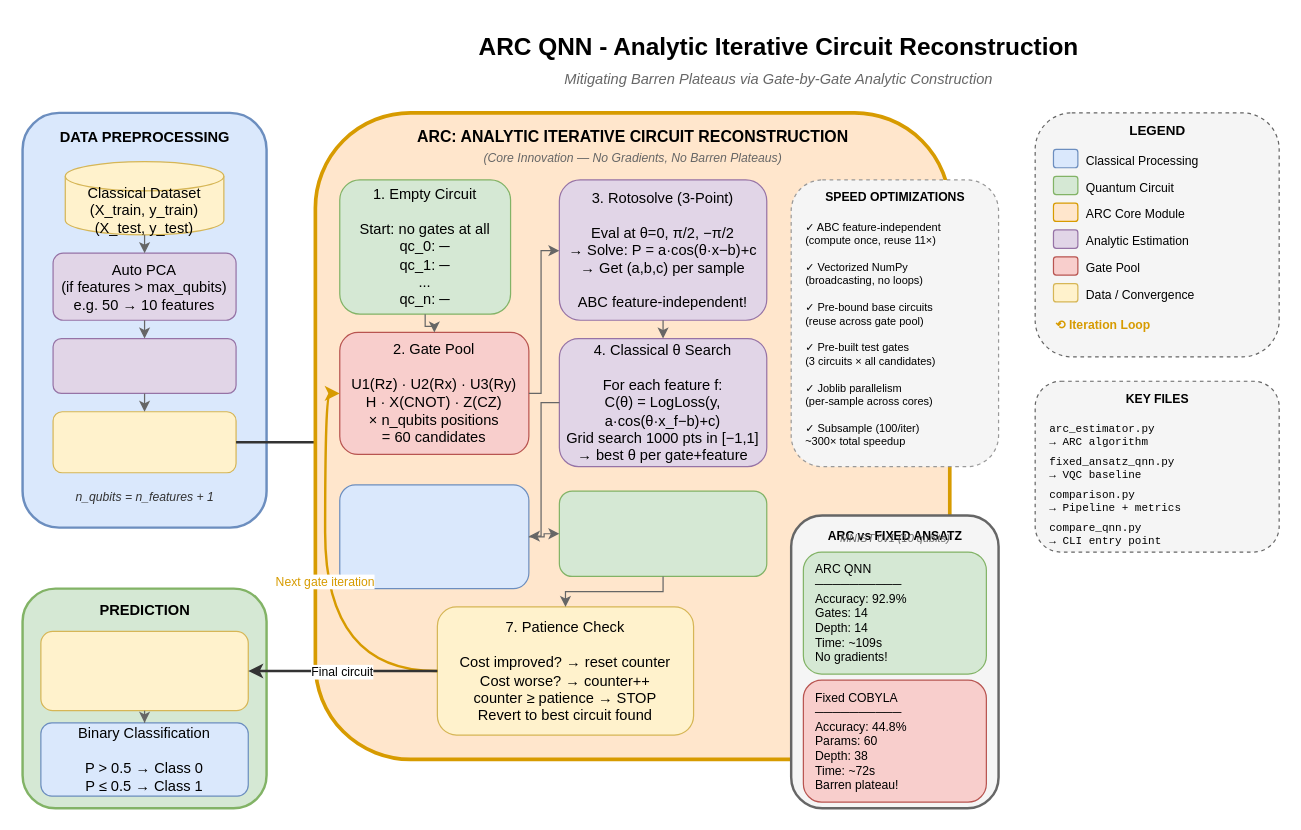
This 1301x830 diagram has some shape labels left out. Here are the shapes that lost their labels. From the top down, the centre of each, then its label:
the point at 144,365: MinMax Scaling features → [0, π]
the point at 144,442: Append Bias Feature last column = π (trainable offset)
the point at 434,536: 5. Select Best Gate Across all candidates: Pick gate+feature+θ with lowest cost
the point at 662,533: 6. Append Gate R(θ*·x[f]) added to growing circuit
the point at 144,670: Statevector Simulation Compute P(|0...0⟩) = |⟨0|U(x)|0⟩|²
